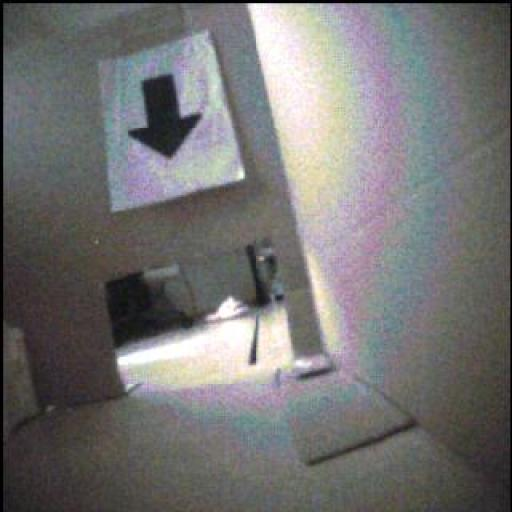arrow: (129, 76, 201, 158)
